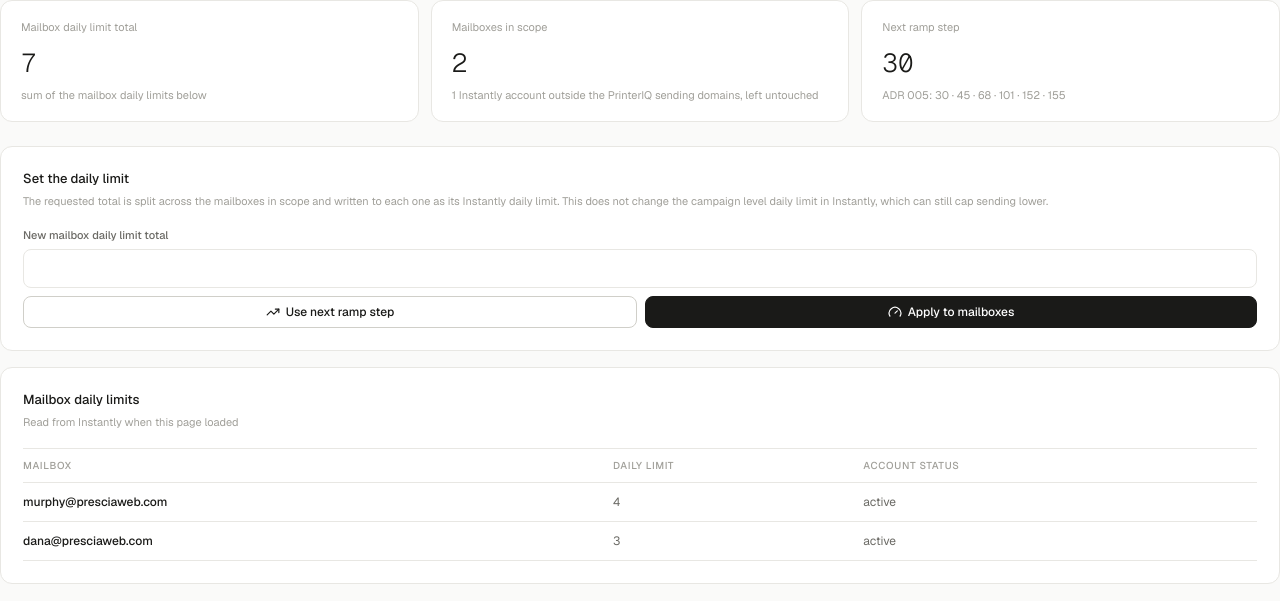
Scenario: SendRateControl › prefills the next ramp step when the operator asks for it
Click the button "Use next ramp step" at [330, 312], box x1=23 y1=296 x2=637 y2=328
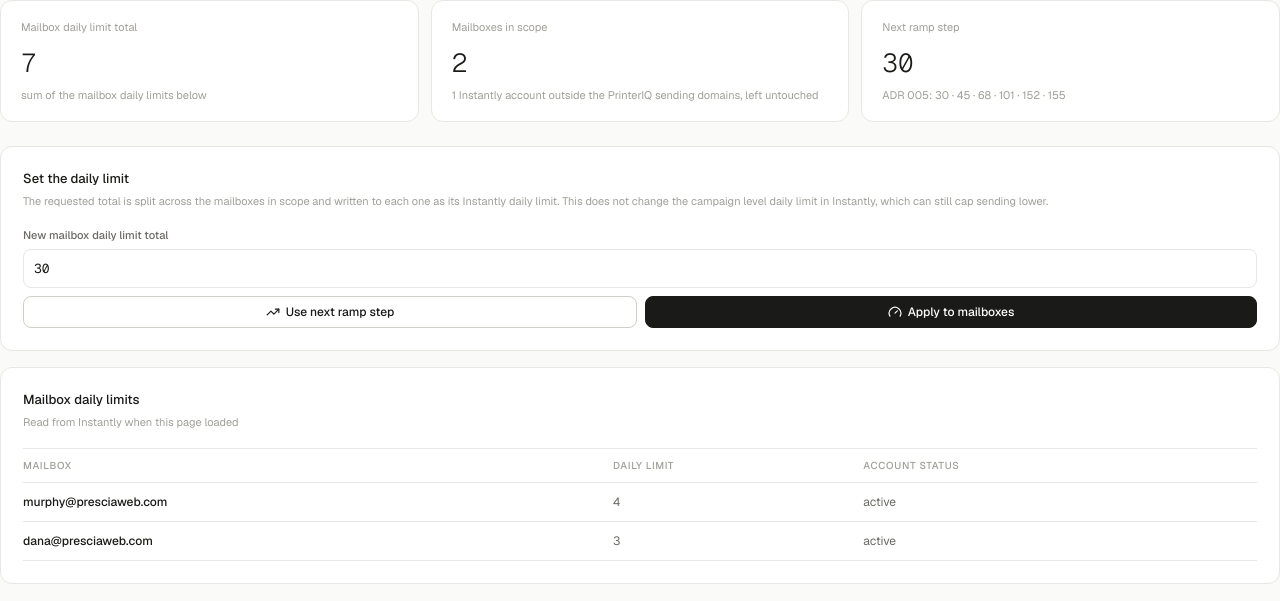
Now the number field labelled "New mailbox daily limit total" holds "30", box x1=23 y1=248 x2=1257 y2=288
